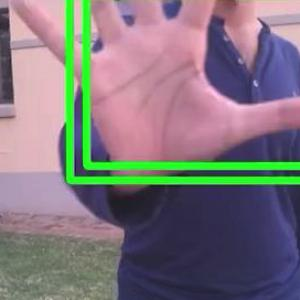follow_hand: (8, 0, 299, 183)
